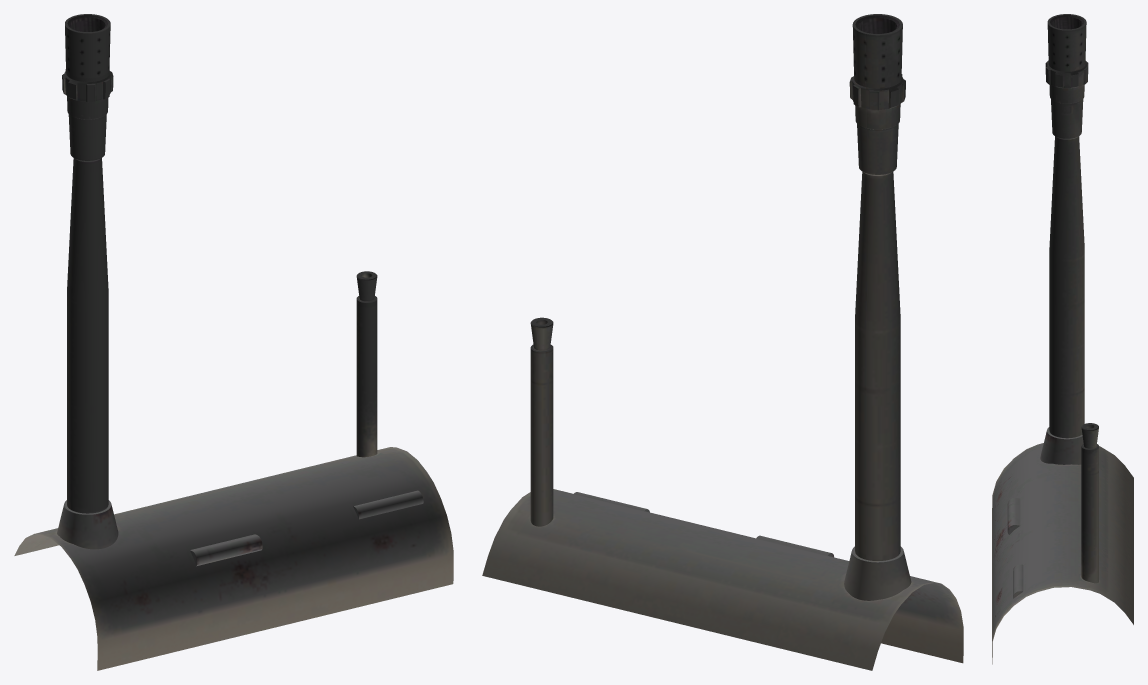
The model's file is Gun_01.glb.
3 views of the same model, side by side, from view 1: azimuth 30°, elevation 25°; view 2: azimuth 150°, elevation 25°; view 3: azimuth 270°, elevation 25° (orthographic). The views are drawn at different scales.
Visible parts, largest first — view 1: set_0_group_0; view 2: set_0_group_0; view 3: set_0_group_0.
Boxes of the visible parts, box(x1,y1,x2,y2) form: set_0_group_0: box(14, 14, 453, 670); set_0_group_0: box(482, 14, 963, 670); set_0_group_0: box(992, 14, 1133, 664).
Bounding box in the file's own units: 0.6829 × 1.11 × 0.2771.
Materials: 1 (1 with a texture image).
